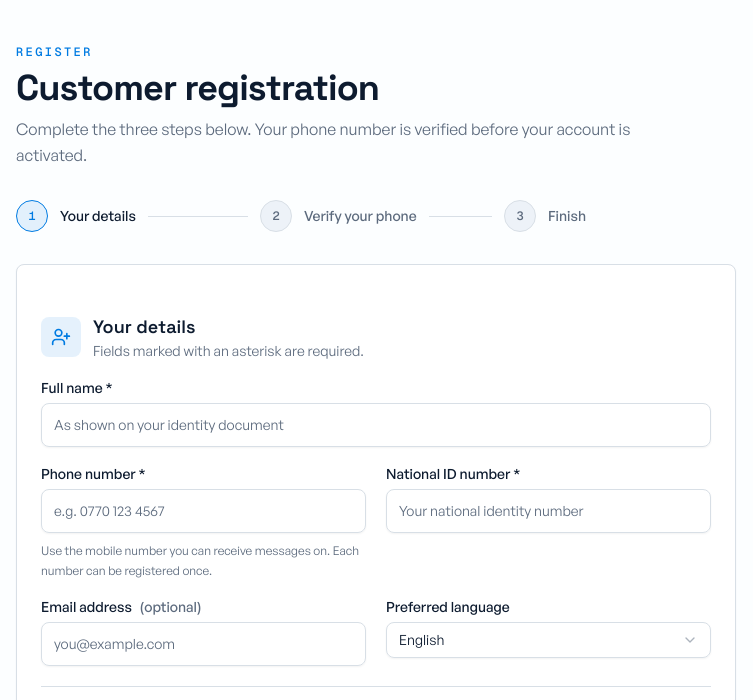
RegisterPage › rejects a duplicate phone number with a clear message
Type "Ada Lovelace" into the field with test id "register.full_name_input". click: (376, 425)
box: [41,403,711,447]
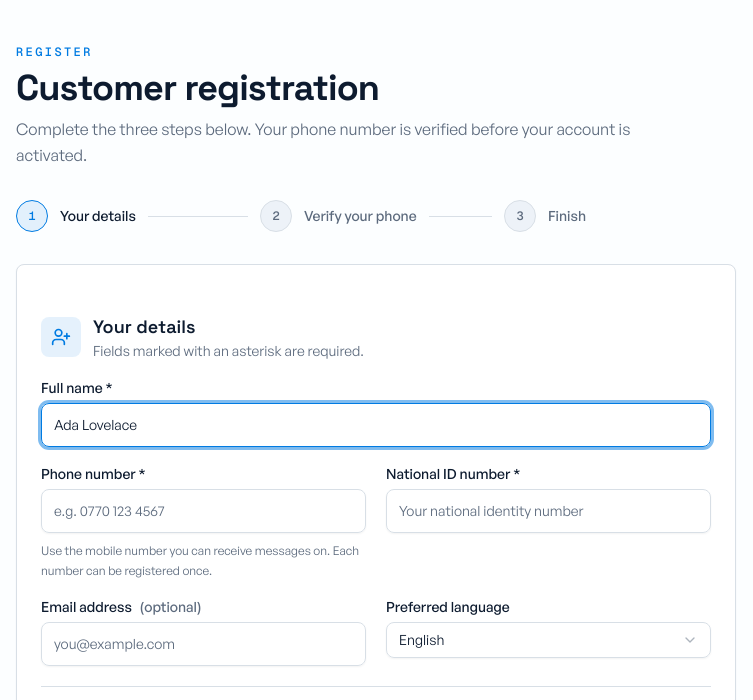
Type "07701234567" into the field with test id "register.phone_input". click: (204, 511)
box: [41,489,366,533]
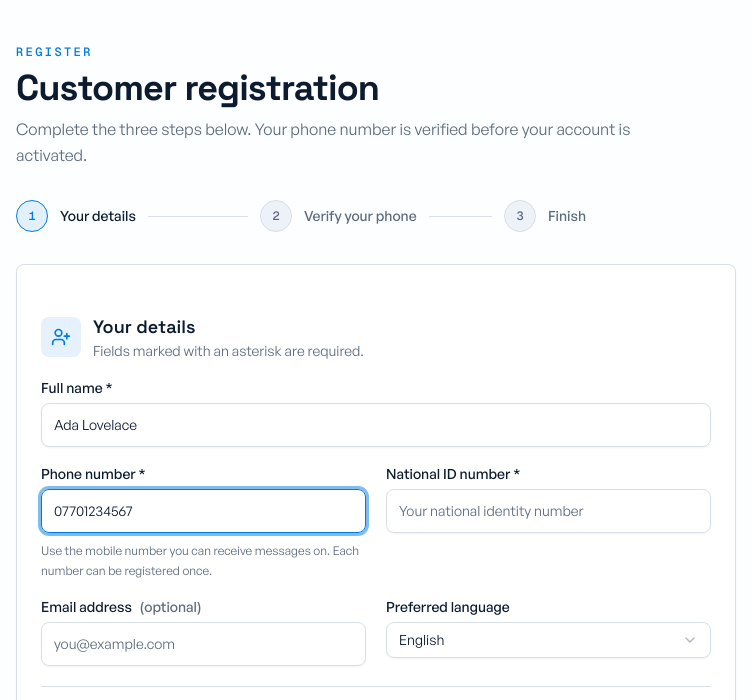
Type "1234567890" into the field with test id "register.national_id_input". click: (548, 511)
box: [386,489,711,533]
(page scrolled)
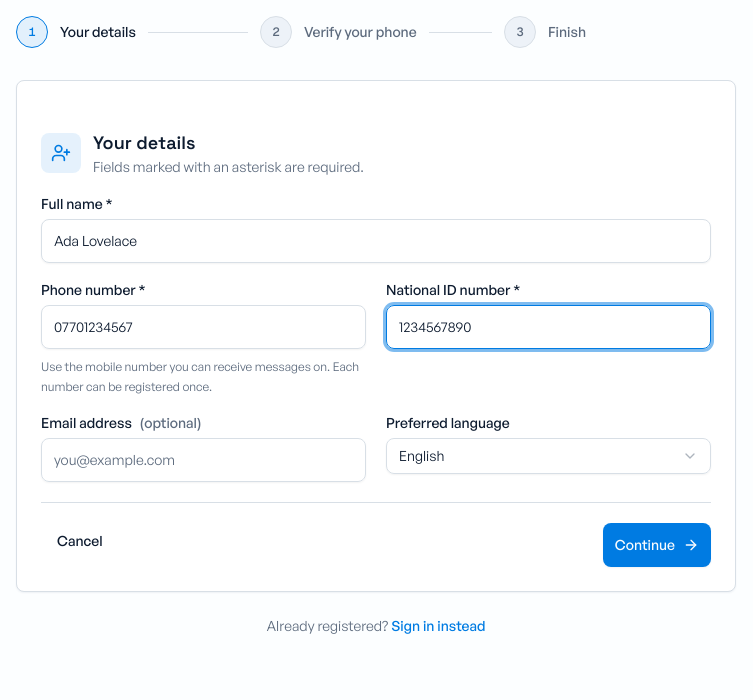
Click the button with test id "register.submit_button". click: (657, 545)
box: [603,523,711,567]
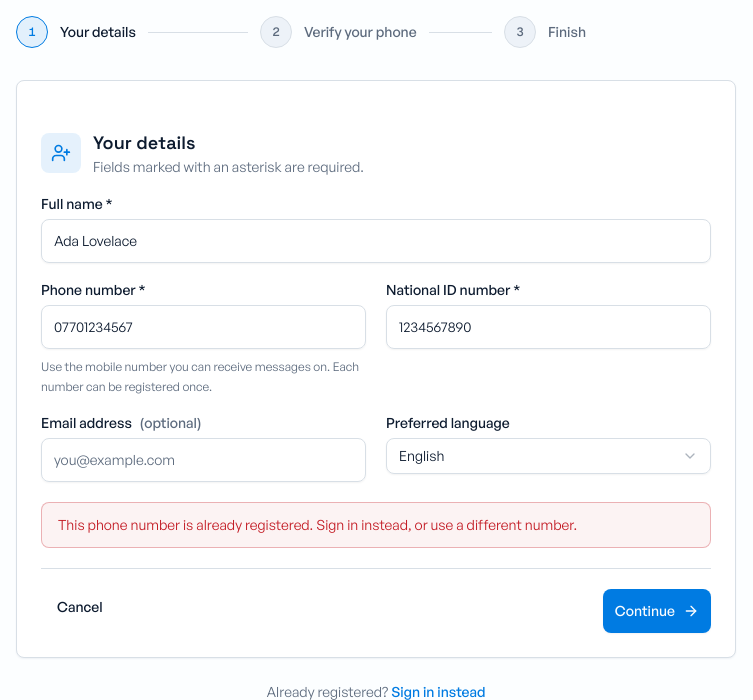
Expected: the message with test id "register.error_state" shows "already registered", [58,516,577,533]
